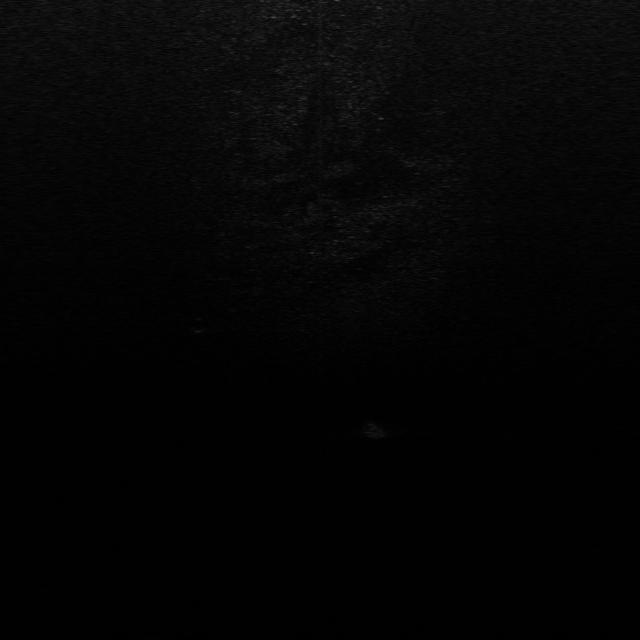ball: (362, 420, 391, 440)
circle cage: (187, 318, 213, 334)
